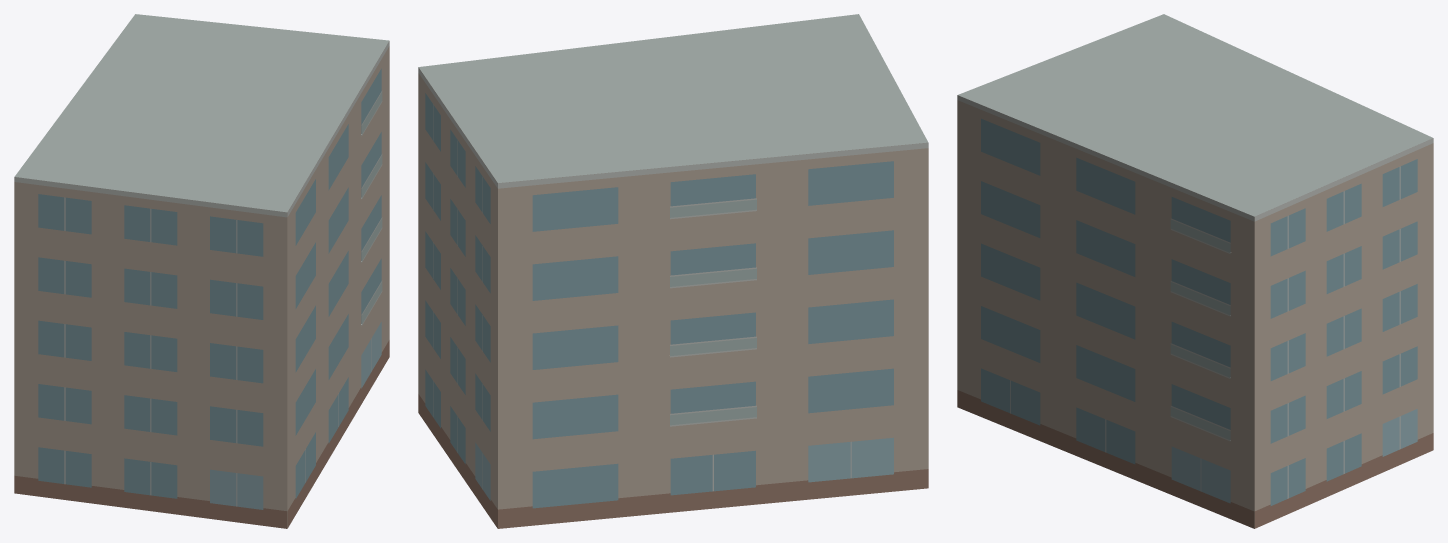
File: survey-upis-32834751.glb
The picture shows the model from 3 angles, left to right: view 1: azimuth 30°, elevation 25°; view 2: azimuth 150°, elevation 25°; view 3: azimuth 270°, elevation 25°; orthographic projection. The views are drawn at different scales.
Parts seen in each view (by area): view 1: survey-upis-32834751.tmp; view 2: survey-upis-32834751.tmp; view 3: survey-upis-32834751.tmp.
Boxes of the visible parts, x1=… form: survey-upis-32834751.tmp: x1=14, y1=14, x2=389, y2=528; survey-upis-32834751.tmp: x1=418, y1=14, x2=928, y2=528; survey-upis-32834751.tmp: x1=957, y1=14, x2=1433, y2=528.
Bounding box in the file's own units: 21.17 × 15.2 × 21.01.
